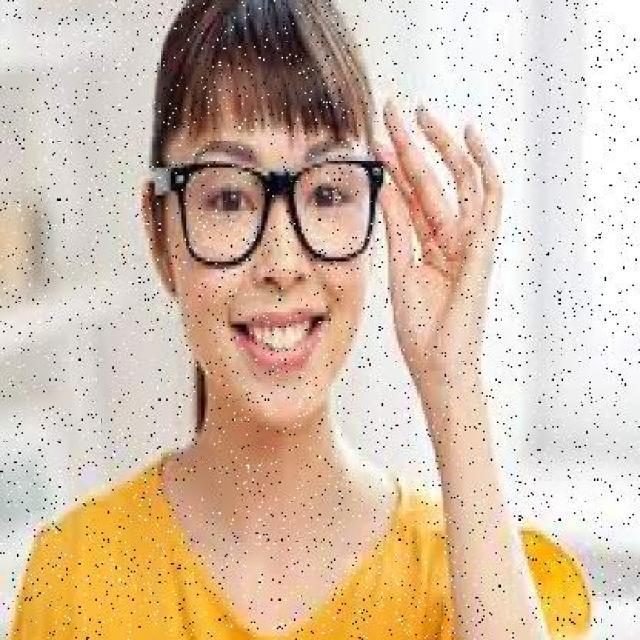glasses: (165, 153, 388, 270)
